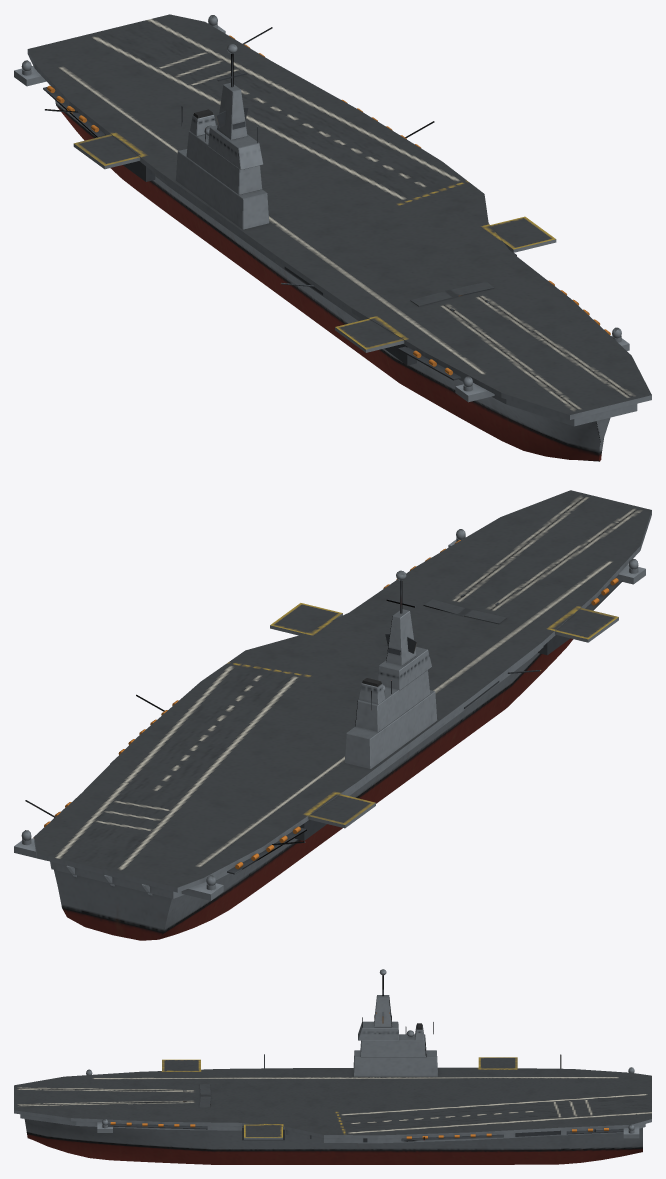
File: carrier.fbx
3 views of the same model, one above another, from view 1: azimuth 30°, elevation 25°; view 2: azimuth 150°, elevation 25°; view 3: azimuth 270°, elevation 25° (orthographic). The views are drawn at different scales.
Visible parts, largest first — view 1: carrier; view 2: carrier; view 3: carrier.
Part boxes in pixels (x1,y1,x2,y2): carrier: [14, 14, 651, 461]; carrier: [14, 490, 651, 940]; carrier: [14, 969, 651, 1164].
Bounding box in the file's own units: 181 × 154 × 560.
Materials: 1 (1 with a texture image).
